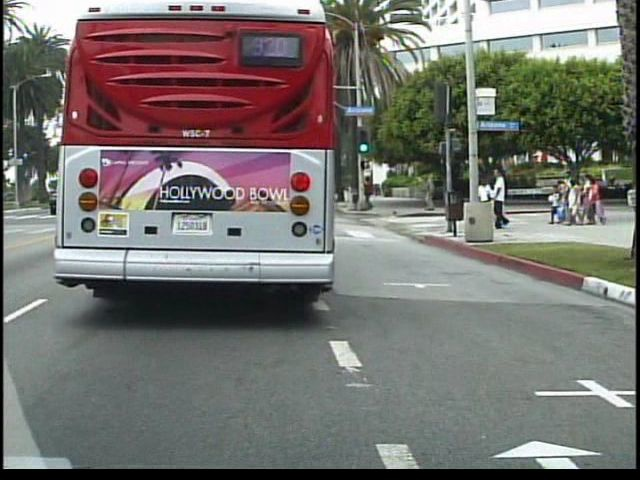person: (493, 165, 515, 235), (475, 173, 497, 226), (362, 174, 383, 215), (422, 172, 440, 214)
